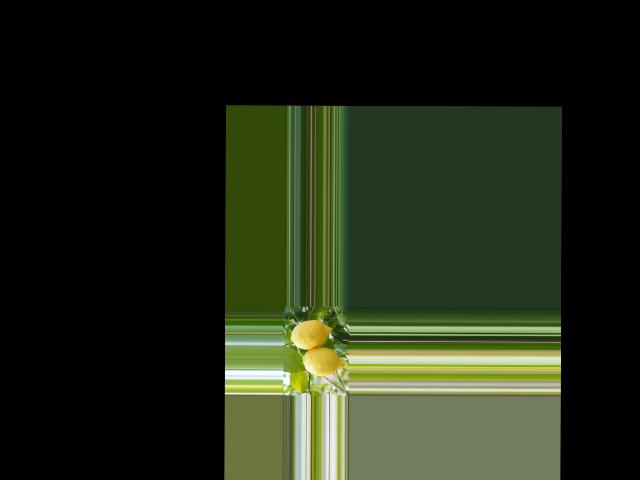lemon: (300, 345, 343, 378)
